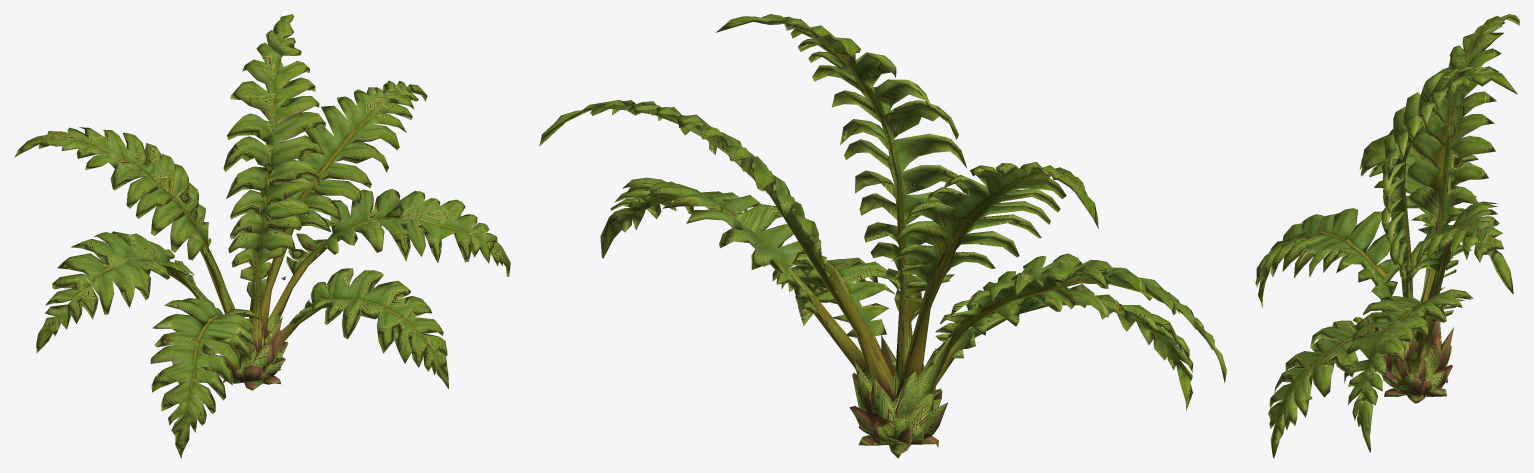
Rendered from prop_duong_xi.2a77b1cebf.glb.
3 renders of one model, left to right at view 1: azimuth 30°, elevation 25°; view 2: azimuth 150°, elevation 25°; view 3: azimuth 270°, elevation 25°, orthographic. The views are drawn at different scales.
Visible parts, largest first — view 1: prop_duong_xi; view 2: prop_duong_xi; view 3: prop_duong_xi.
Boxes of the visible parts, x1,y1,x2,y2 form: prop_duong_xi: (14, 14, 510, 458); prop_duong_xi: (539, 14, 1226, 458); prop_duong_xi: (1255, 14, 1519, 458).
Size of what is drawn, in the model's own units: 1.1 by 0.719 by 0.4865.
Materials: 1 (1 with a texture image).
